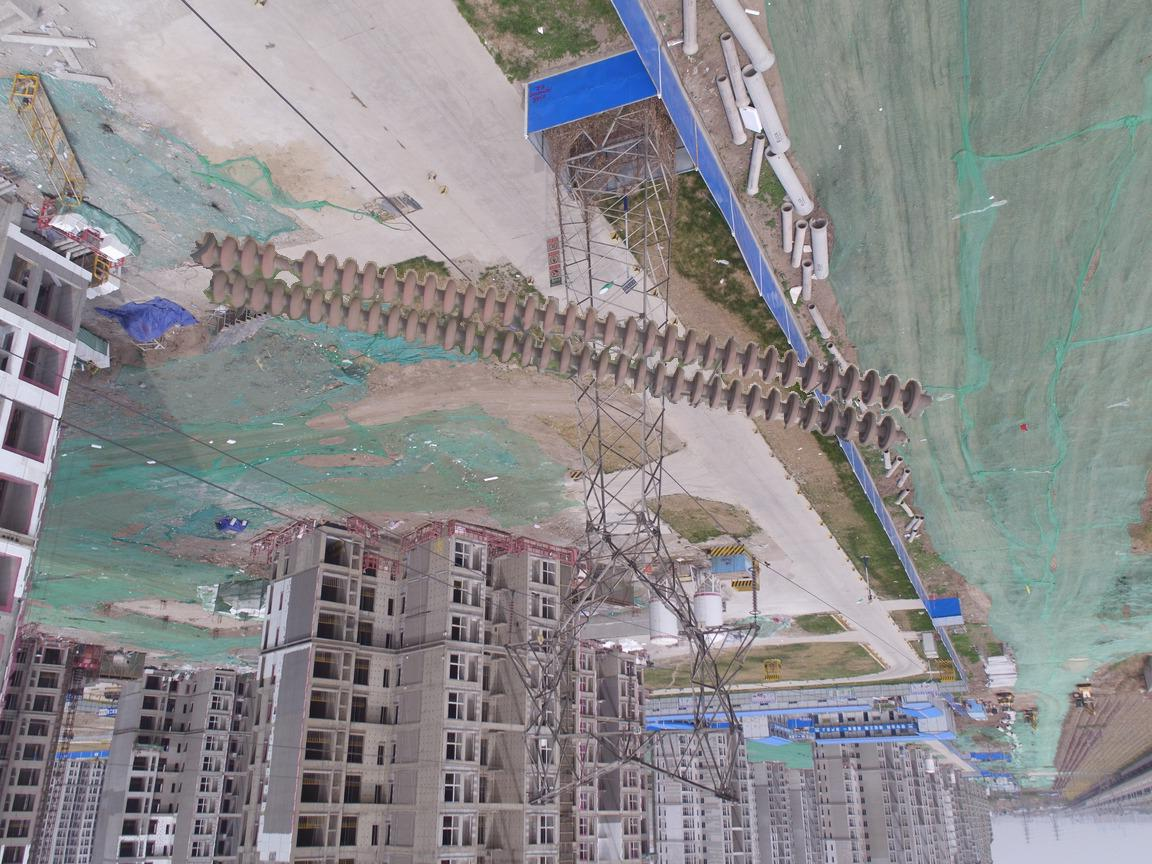insulator: (187, 227, 931, 455)
insulator_stringdrop: (258, 241, 319, 289)
